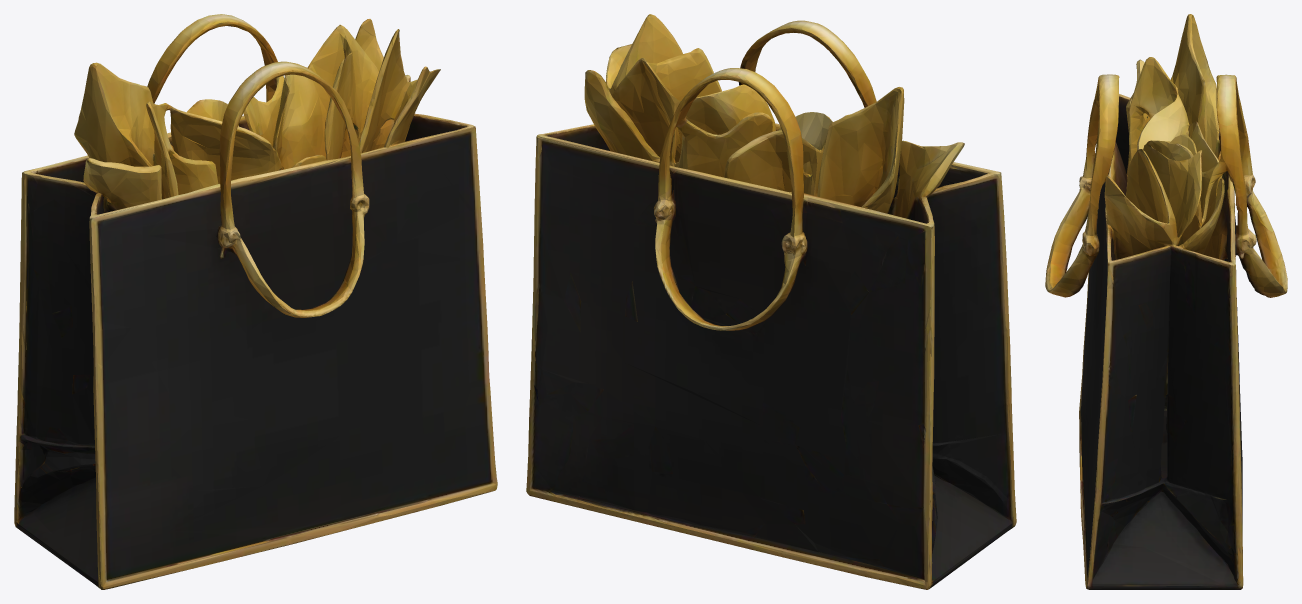
The model's file is giftbag_black_gold.glb.
The picture shows the model from 3 angles, left to right: view 1: azimuth 30°, elevation 25°; view 2: azimuth 150°, elevation 25°; view 3: azimuth 270°, elevation 25°; orthographic projection. The views are drawn at different scales.
Parts seen in each view (by area): view 1: geometry_0; view 2: geometry_0; view 3: geometry_0.
Boxes of the visible parts, x1,y1,x2,y2 form: geometry_0: (14, 14, 497, 589); geometry_0: (526, 14, 1016, 589); geometry_0: (1045, 14, 1287, 589).
Bounding box in the file's own units: 0.8928 × 0.9998 × 0.5175.
Materials: 1 (1 with a texture image).
